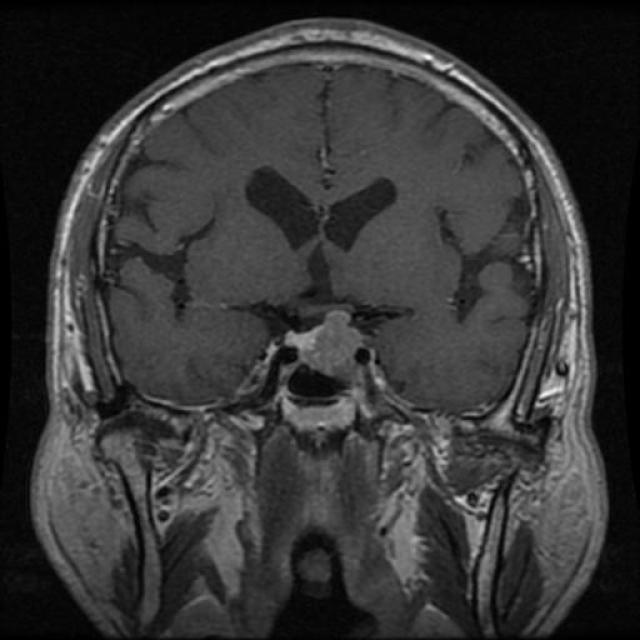pituitary: (274, 310, 401, 429)
